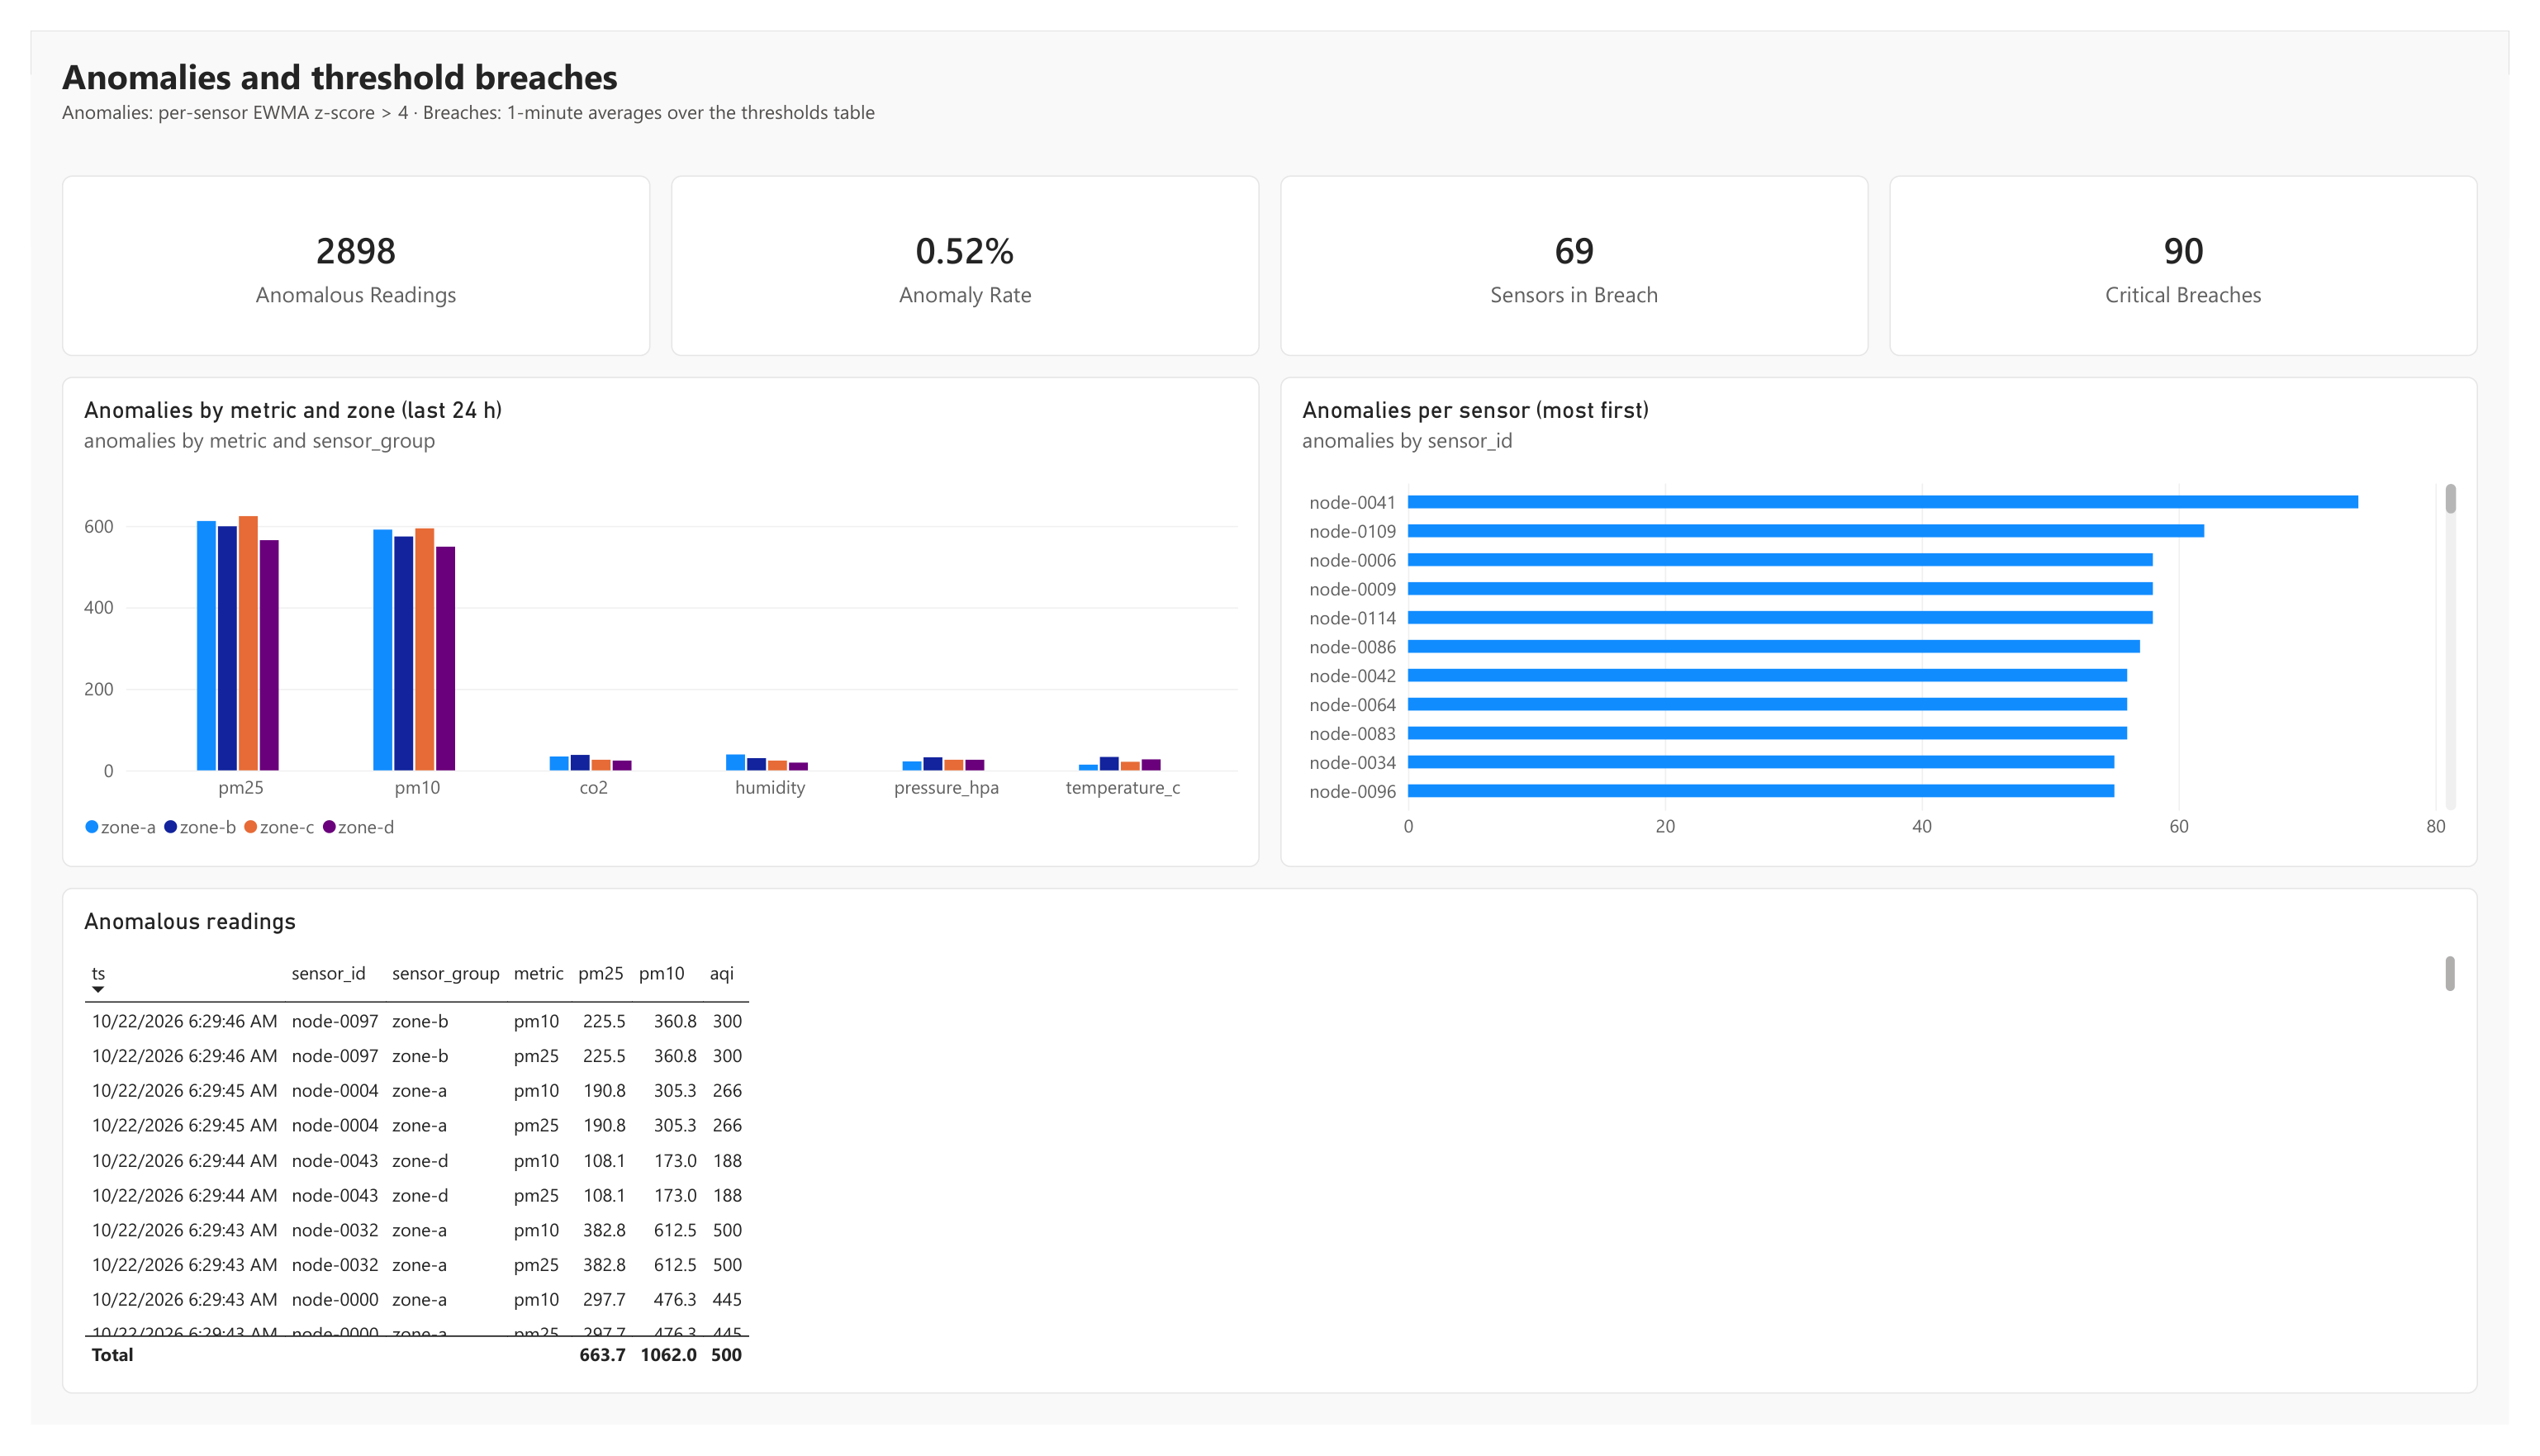

Layout of this report page (visuals, bound fields, positions):
{"tool":"powerbi","page":{"name":"Anomalies","canvas":[1920,1080],"ordinal":2},"visuals":[{"type":"textbox","box":[24,16,1400,80],"z":0},{"type":"card","fields":{"Values":["bi fact_1m.Anomalous Readings"]},"box":[24,112,456,140],"z":1000},{"type":"card","fields":{"Values":["bi fact_1m.Anomaly Rate"]},"box":[496,112,456,140],"z":2000},{"type":"card","fields":{"Values":["bi fact_1m.Sensors in Breach"]},"box":[968,112,456,140],"z":3000},{"type":"card","fields":{"Values":["bi fact_1m.Critical Breaches"]},"box":[1440,112,456,140],"z":4000},{"type":"clusteredColumnChart","title":"Anomalies by metric and zone (last 24 h)","fields":{"Category":["bi anomalies.metric"],"Y":["CountNonNull(bi anomalies.ts)"],"Series":["bi anomalies.sensor_group"]},"box":[24,268,928,380],"z":5000},{"type":"clusteredBarChart","title":"Anomalies per sensor (most first)","fields":{"Category":["bi anomalies.sensor_id"],"Y":["CountNonNull(bi anomalies.ts)"]},"box":[968,268,928,380],"z":6000},{"type":"tableEx","title":"Anomalous readings","fields":{"Values":["bi anomalies.ts","bi anomalies.sensor_id","bi anomalies.sensor_group","bi anomalies.metric","Max(bi anomalies.pm25)","Max(bi anomalies.pm10)","Max(bi anomalies.aqi)"]},"box":[24,664,1872,392],"z":7000}]}

Visuals, with their boxes on the page's 1920x1080 design canvas (x1, y1, x2, y2). These are canvas units, not pixel positions in the 2540x1456 screenshot, which may show the page scaled, cropped or inside an application window:
textbox: 24,16,1424,96
card - bi fact_1m.Anomalous Readings: 24,112,480,252
card - bi fact_1m.Anomaly Rate: 496,112,952,252
card - bi fact_1m.Sensors in Breach: 968,112,1424,252
card - bi fact_1m.Critical Breaches: 1440,112,1896,252
"Anomalies by metric and zone (last 24 h)" clusteredColumnChart: 24,268,952,648
"Anomalies per sensor (most first)" clusteredBarChart: 968,268,1896,648
"Anomalous readings" tableEx: 24,664,1896,1056
